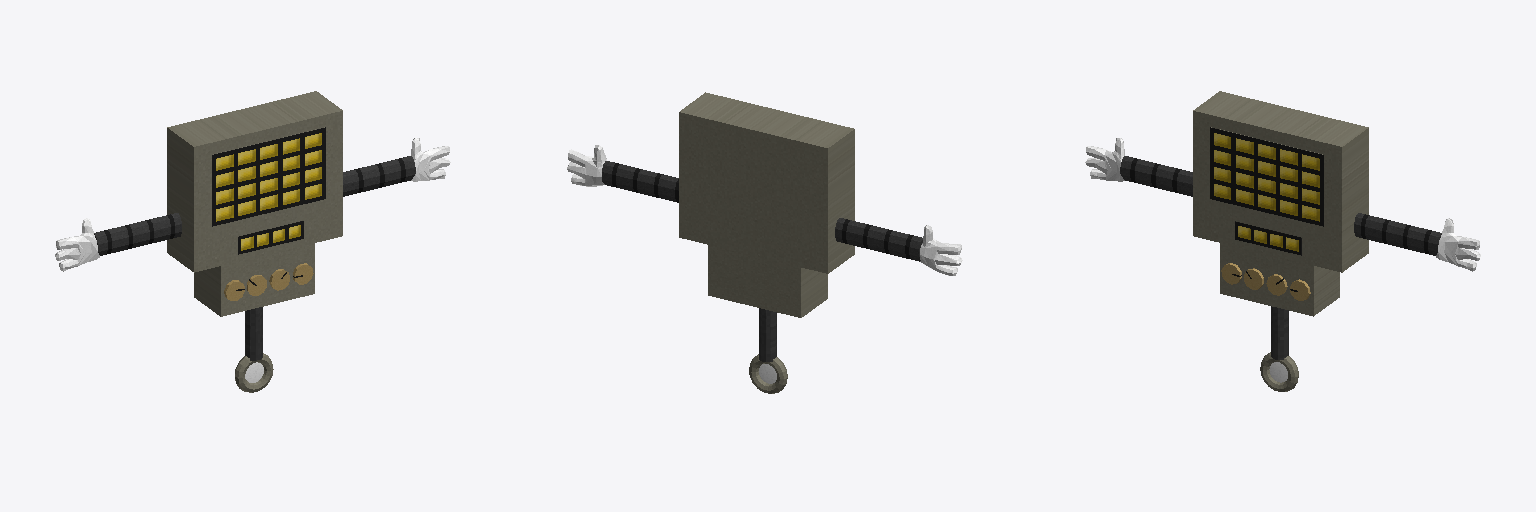
3 views of the same model, side by side, from view 1: azimuth 30°, elevation 25°; view 2: azimuth 150°, elevation 25°; view 3: azimuth 330°, elevation 25° (orthographic).
Parts seen in each view (by area): view 1: body, screen1, arms, hand, button, screen2, "leg", wheel1; view 2: body, arms, hand, "leg", wheel1; view 3: body, screen1, arms, hand, button, screen2, "leg", wheel1.
Boxes of the visible parts, box(x1,y1,x2,y2) form: body: box(167, 91, 342, 316); screen1: box(212, 127, 325, 226); arms: box(94, 156, 415, 255); hand: box(55, 138, 450, 271); button: box(224, 263, 313, 300); screen2: box(238, 221, 303, 254); "leg": box(245, 307, 262, 360); wheel1: box(235, 353, 273, 392); body: box(679, 92, 854, 317); arms: box(602, 161, 922, 261); hand: box(567, 145, 962, 275); "leg": box(759, 308, 776, 361); wheel1: box(749, 354, 787, 393); body: box(1193, 91, 1368, 316); screen1: box(1210, 127, 1323, 226); arms: box(1120, 156, 1441, 255); hand: box(1085, 138, 1480, 271); button: box(1221, 263, 1310, 300); screen2: box(1235, 221, 1301, 255); "leg": box(1271, 306, 1288, 359); wheel1: box(1260, 352, 1298, 391).
Bounding box in the file's own units: 95.86 × 63.34 × 12.11.
1 materials, 1 textured.